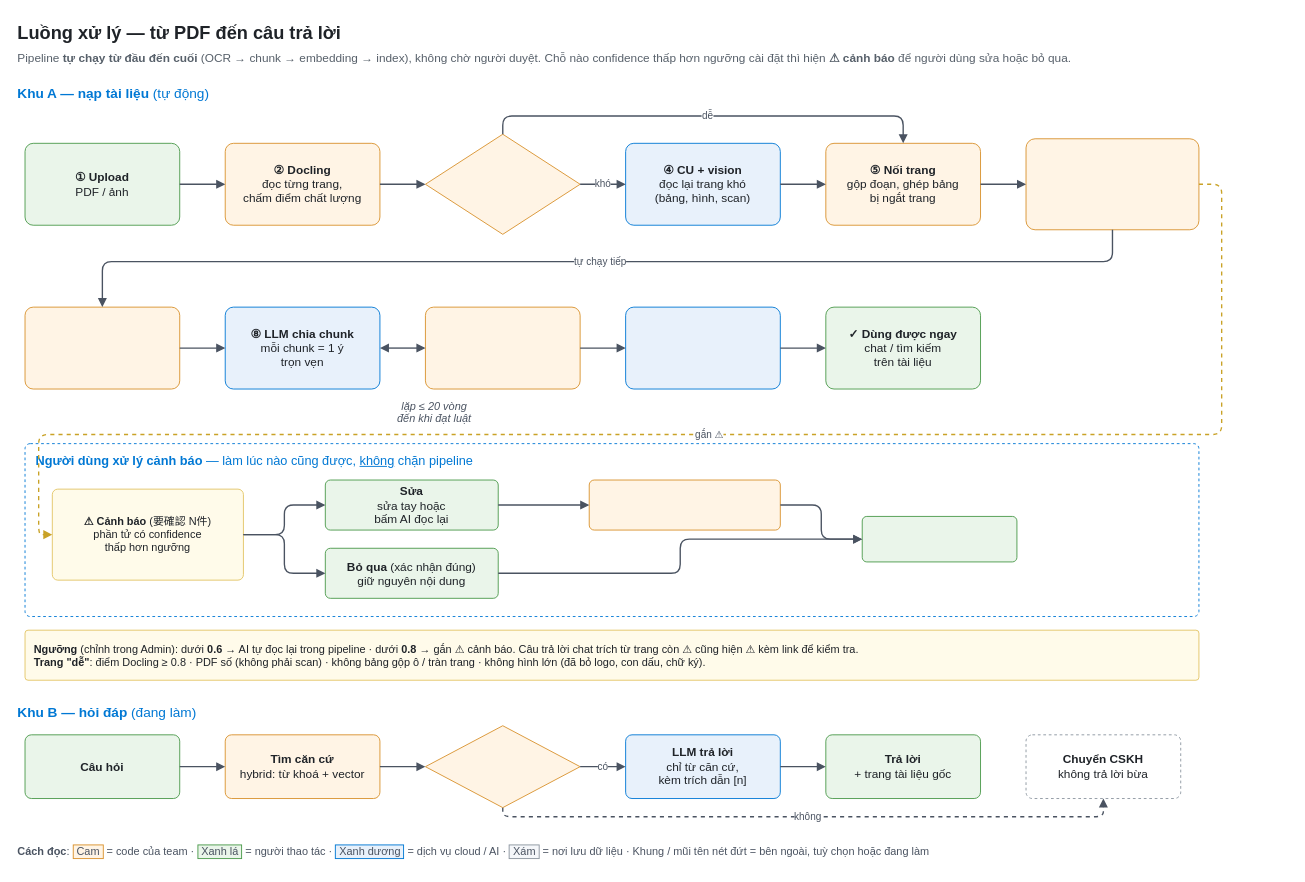
Some shapes in this 1305 by 882 pixel diagram are drawn without their labels. The centre of each missing label's shape, as x and y in pixels:
"Hết cảnh báo" goes at (939,539).
"Tự chunk + index lại trang vừa sửa" goes at (684,504).
"Đủ căn cứ?" goes at (502,766).
"③ Trang dễ hay khó?" goes at (502,183).
"⑥ Kiểm tra chất lượng điểm thấp → AI tự đọc lại vẫn thấp → gắn ⚠" goes at (1112,184).
"⑦ Cắt thô theo mã mục (A000, B000…)" goes at (102,347).
"⑨ Kiểm tra luật đủ nội dung, không cắt đôi bảng…" goes at (502,347).
"⑩ Embedding + index đưa vào Search" goes at (702,347).
